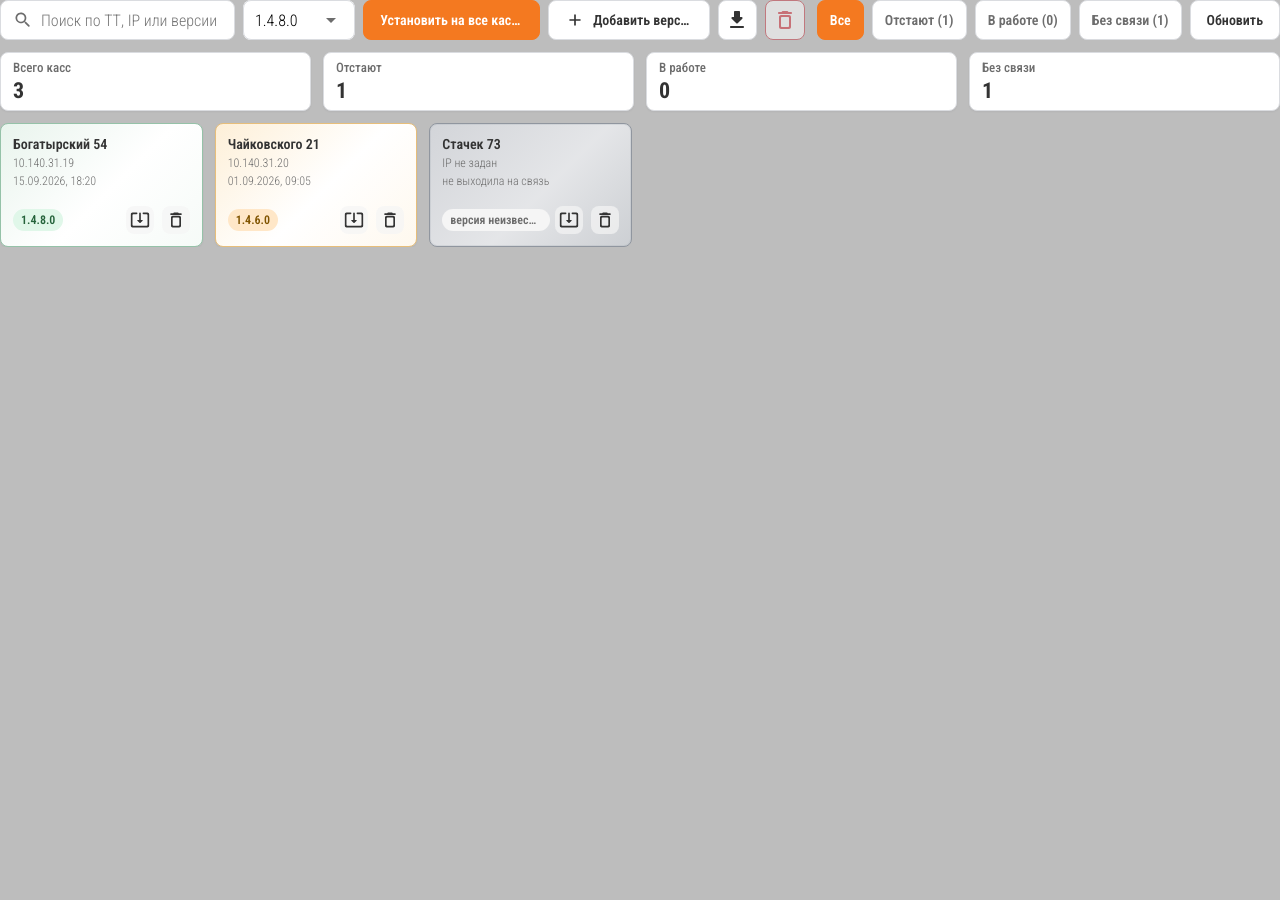
Test case: Cash update — versions › requires an archive before uploading
Click the button "Добавить версию" at {"x": 629, "y": 20}, box [548, 0, 710, 40]
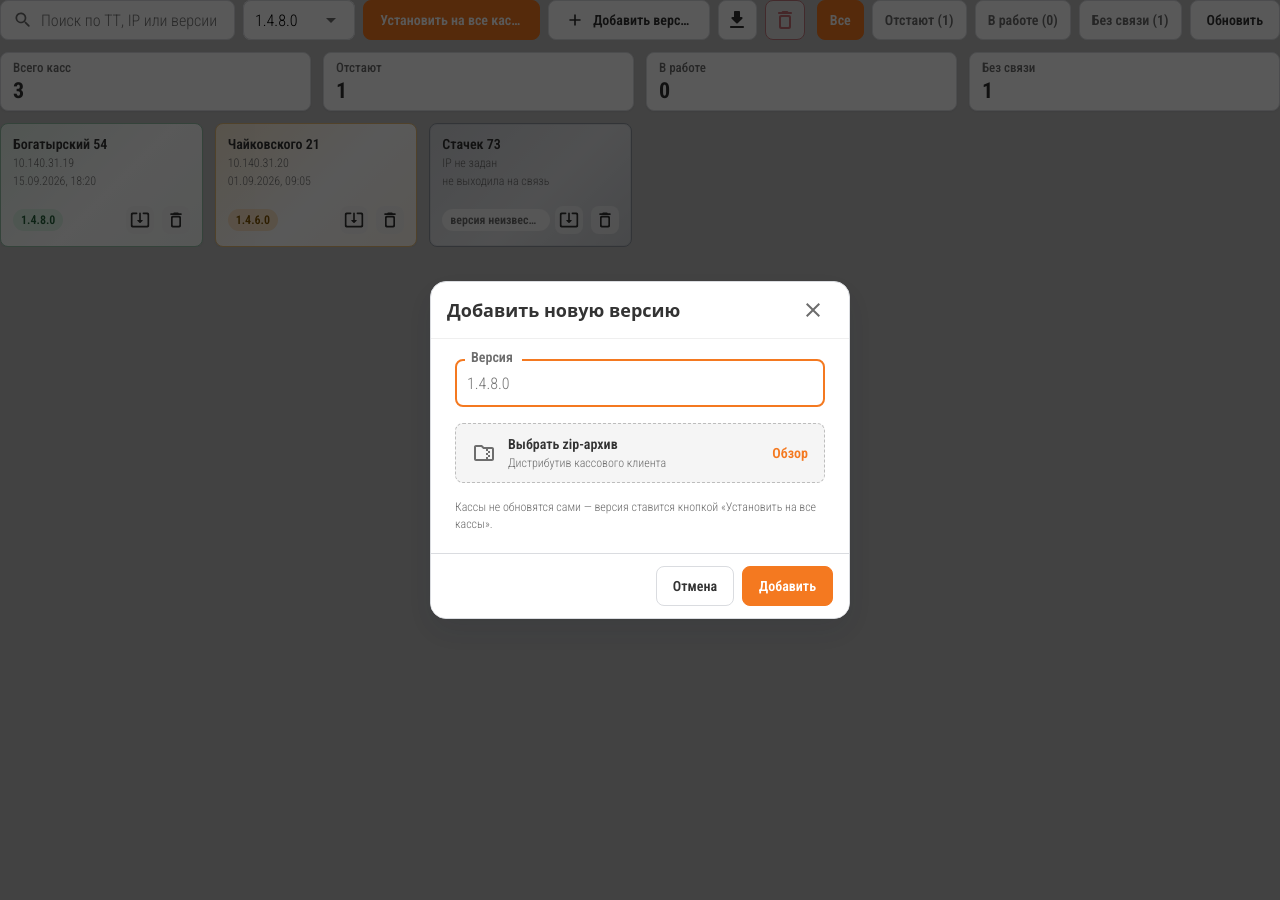
Type "1.4.9.0" into the field labelled "Версия" at {"x": 640, "y": 383}, box [455, 359, 825, 407]
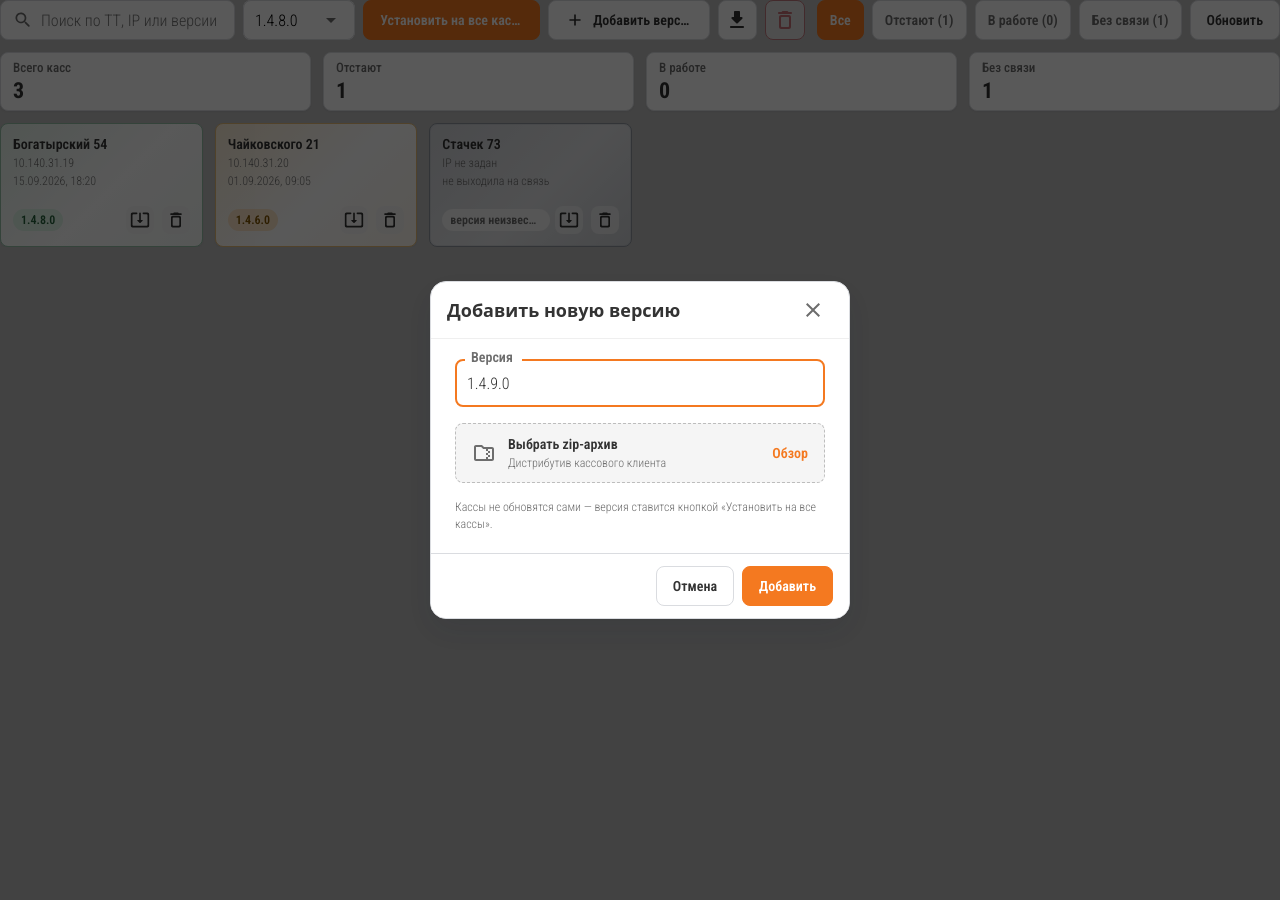
Click the button "Добавить" at {"x": 788, "y": 586}, box [742, 566, 833, 606]
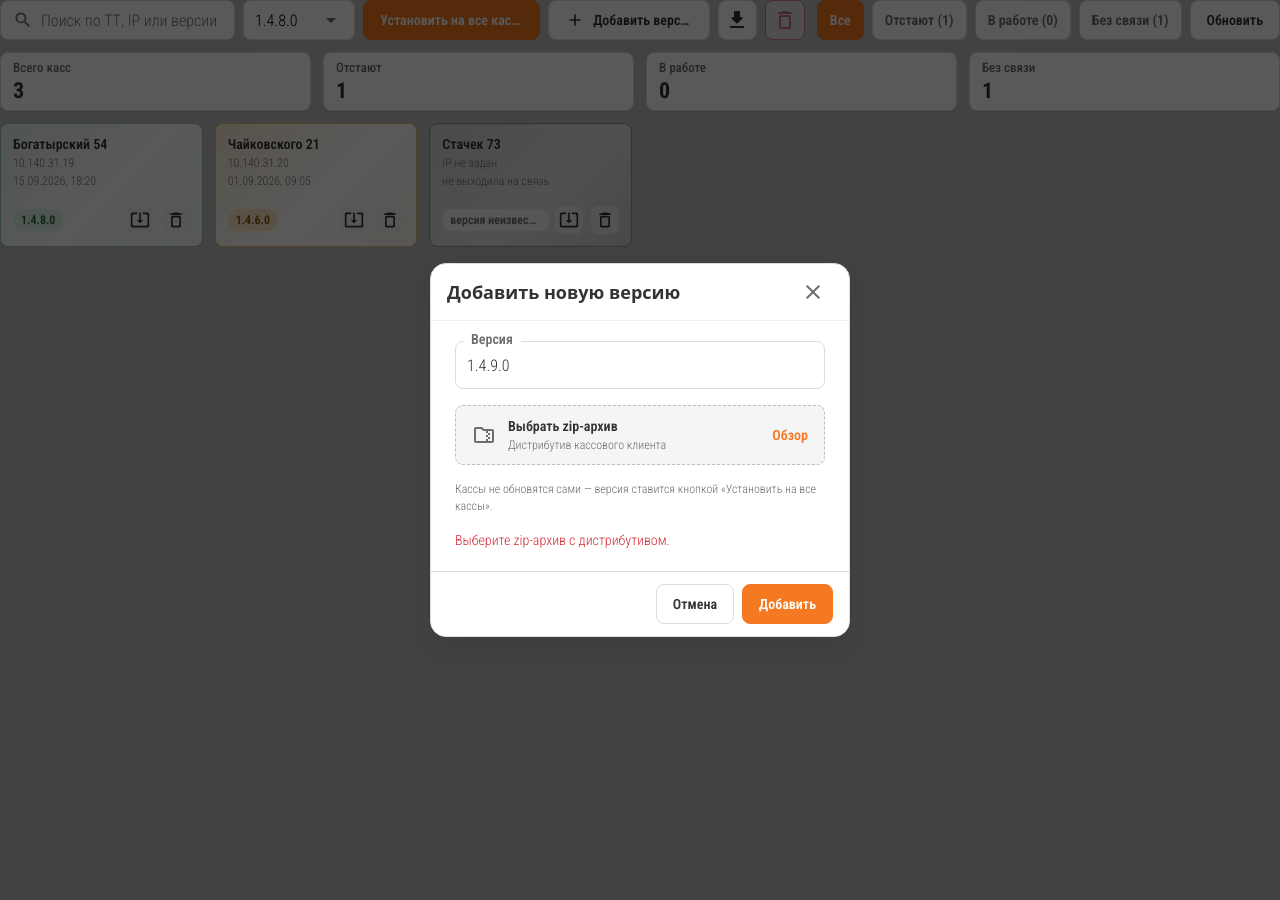
Expected: the message shows "zip-архив", [455, 532, 670, 548]
